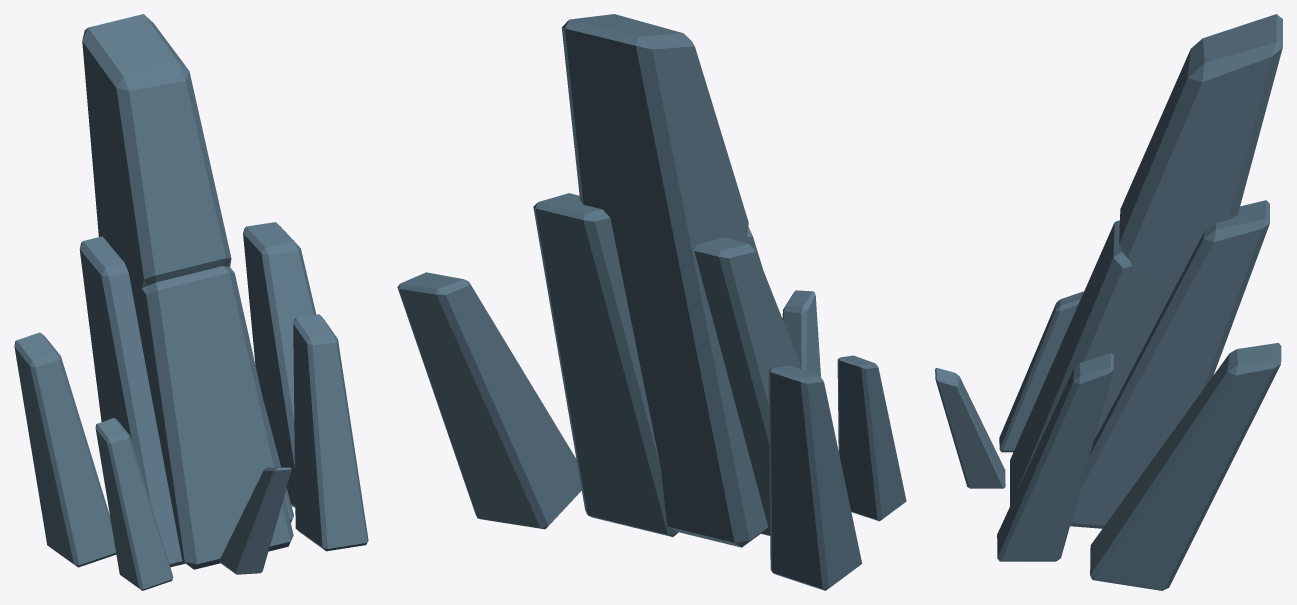
File: rock_007.fbx
3 renders of one model, left to right at view 1: azimuth 30°, elevation 25°; view 2: azimuth 150°, elevation 25°; view 3: azimuth 270°, elevation 25°, orthographic. The views are drawn at different scales.
Visible parts, largest first — view 1: rock.007; view 2: rock.007; view 3: rock.007.
Part boxes in pixels (x1,y1,x2,y2): rock.007: [14, 14, 368, 590]; rock.007: [397, 14, 906, 590]; rock.007: [935, 14, 1282, 590].
Bounding box in the file's own units: 46.84 × 70.51 × 45.75.
